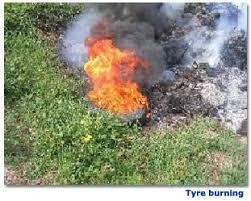fire: (81, 29, 151, 112)
